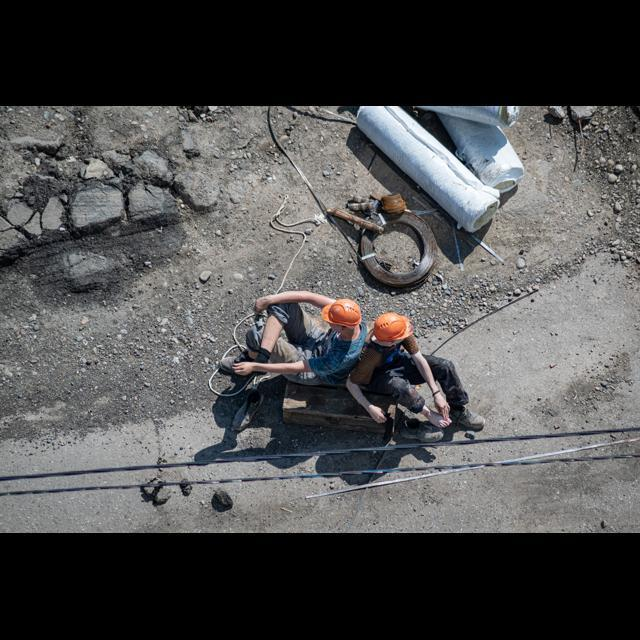helmet: (369, 310, 420, 350), (316, 290, 364, 328)
